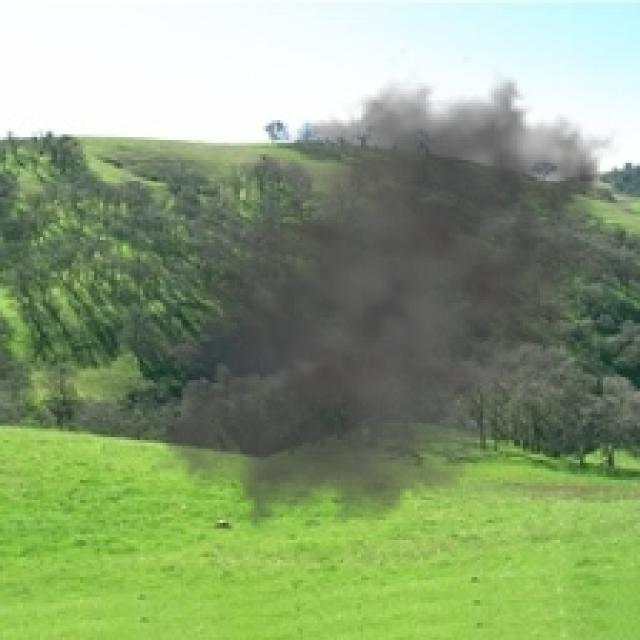smoke: (126, 46, 637, 566)
